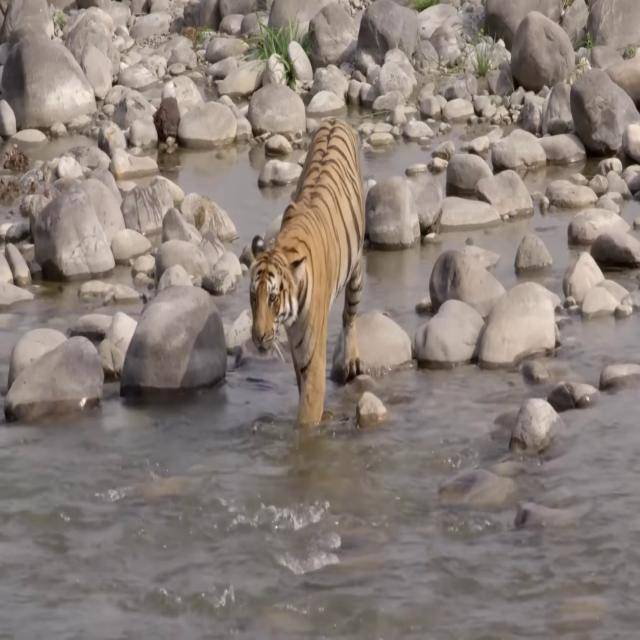tiger: (248, 115, 366, 426)
